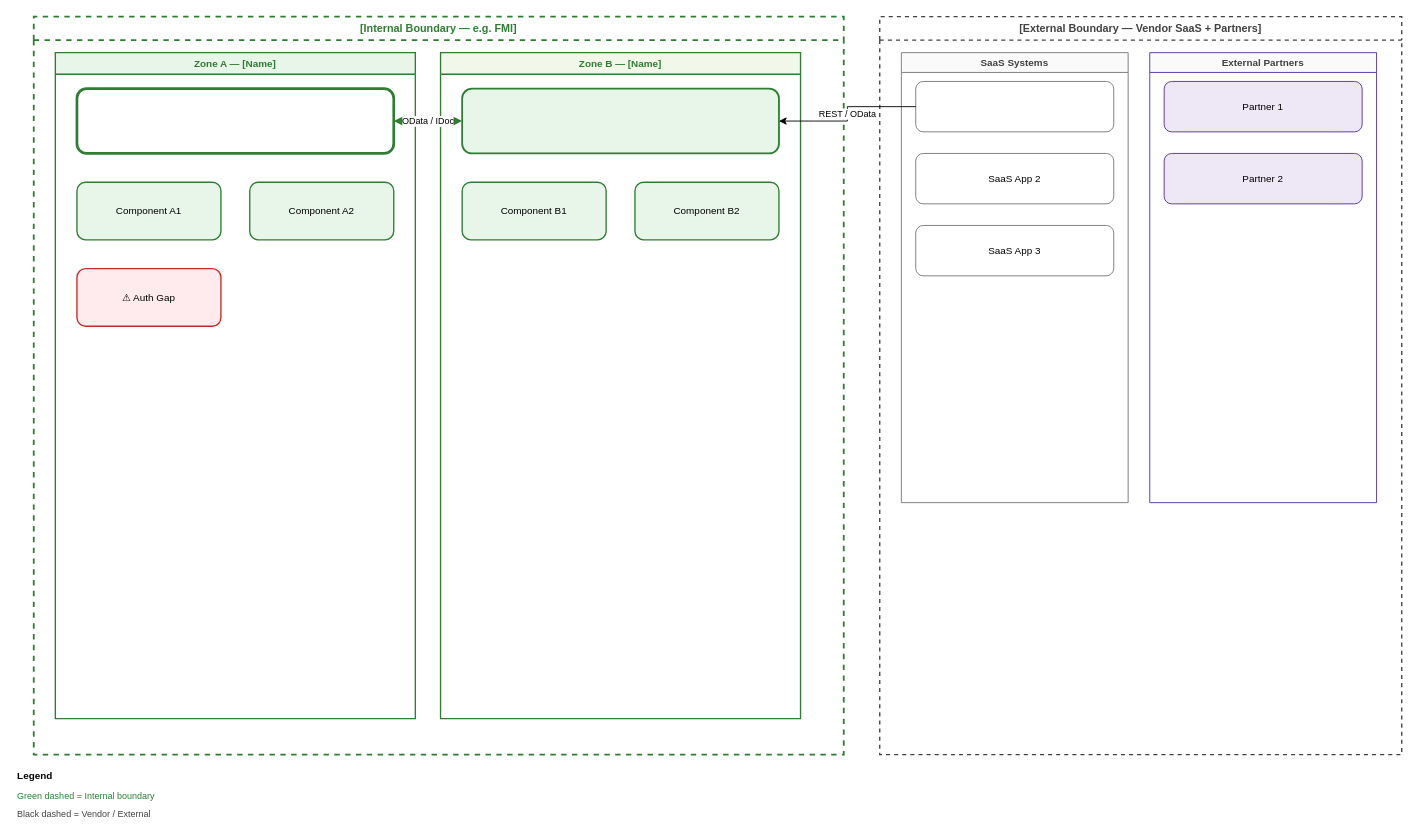
The diagram is 1418 pixels wide and 835 high, and some of its shapes have lost their labels. The shapes that lost their labels are listed below. From the top down, each one's centre as x and y in pixels, then its label:
At (235,120): "HERO SYSTEM".
At (620,120): "Enabler / iPaaS".
At (1014,106): "SaaS App 1".
